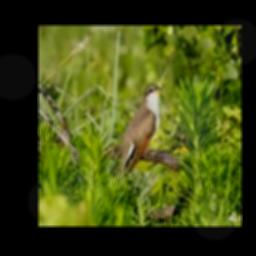Cuckoo: (117, 83, 163, 180)
